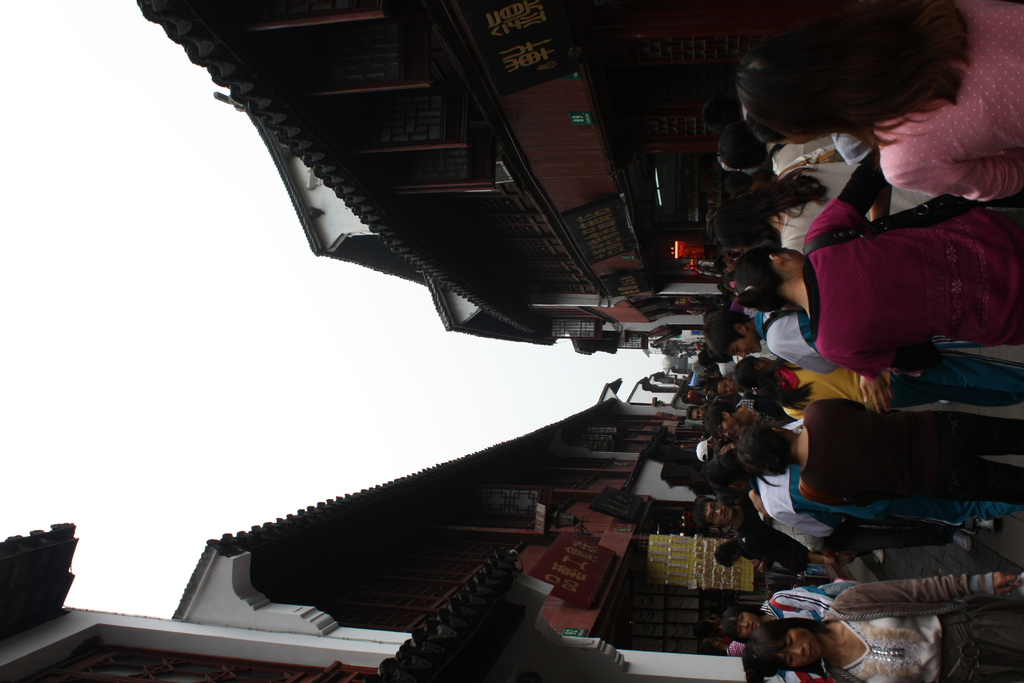Human_hand: (854, 372, 893, 412), (993, 573, 1019, 595), (751, 497, 766, 522), (755, 563, 767, 575)
